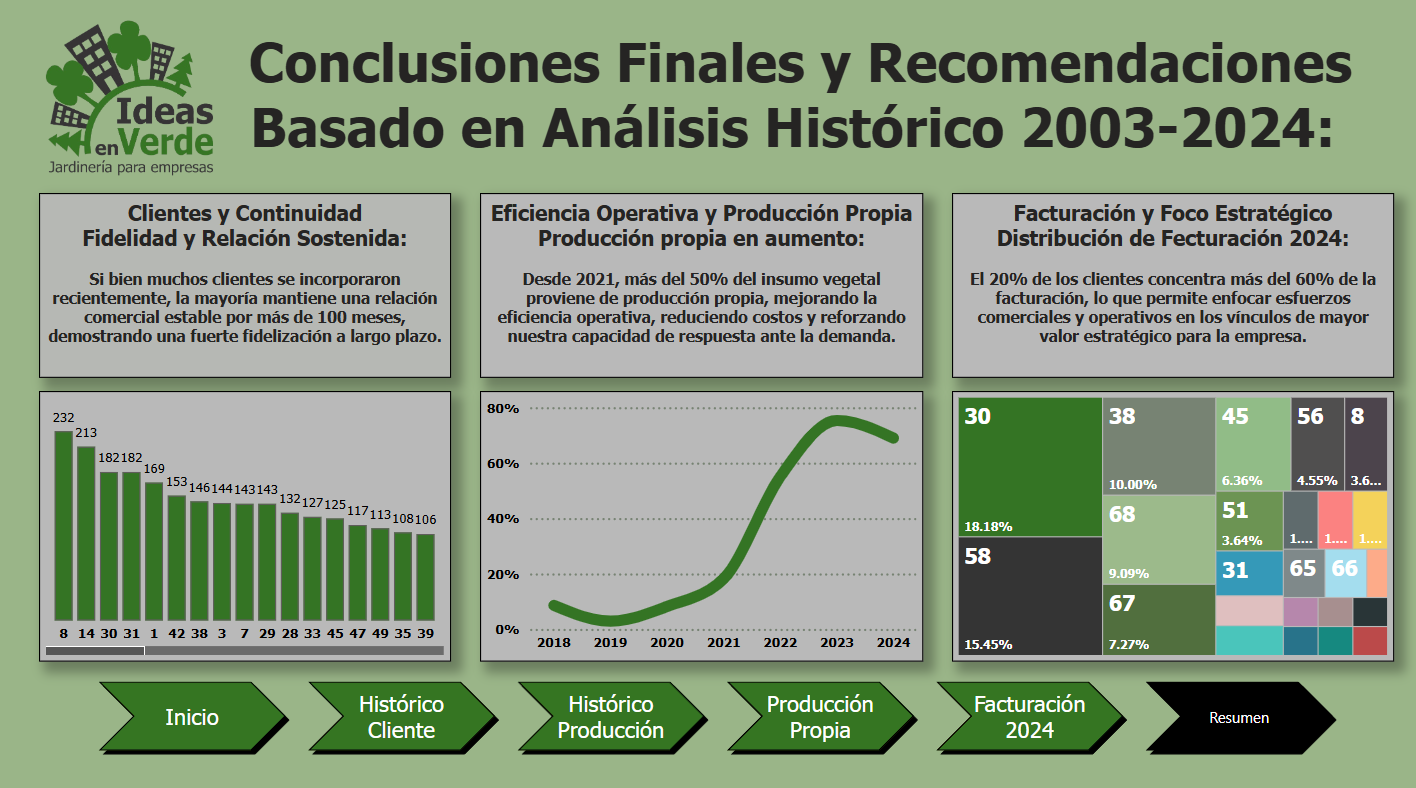

This screenshot's page, from the dashboard's own definition file:
{"tool":"powerbi","page":{"name":"Resumen","canvas":[1280,720],"ordinal":5},"visuals":[{"type":"image","box":[31,22,184,149],"z":0},{"type":"textbox","box":[215.5,29.6,1020.7,141.8],"z":1000},{"type":"textbox","box":[41.8,181.9,369.6,166.3],"z":2000},{"type":"textbox","box":[437.7,181.9,397.8,166.3],"z":3000},{"type":"textbox","box":[861.8,181.9,396.8,166.3],"z":4000},{"type":"pageNavigator","box":[90.5,615.7,1121.5,72.9],"z":5000},{"type":"clusteredColumnChart","title":"Meses Totales de Relación Comercial por Cliente","fields":{"Category":["tabla_larga_cliente_2024_filtrada.Cliente_Num"],"Y":["tabla_larga_cliente_2024_filtrada.Cantidad_Meses_Efectivos"]},"box":[41.8,359.9,369.6,243.2],"z":6000},{"type":"lineChart","title":"% Valor Producción Propia (2006 - 2024)","fields":{"Category":["Tabla Resumen 2003-2024.AñoTexto"],"Y":["Avg(Tabla Resumen 2003-2024.%Produccion_Propia)"]},"box":[437.7,359.9,397.8,243.2],"z":7000},{"type":"treemap","title":"Facturación Total 2024 por Cliente ","fields":{"Group":["Facturacion_2024.Cliente"],"Values":["Sum(Facturacion_2024.Round Up)"]},"box":[861.8,359.9,396.8,243.2],"z":8000}]}

Visuals, with their boxes in screenshot pixels (x1, y1, x2, y2), scaled from the page's 1280x720 canvas onto the 1416x788 screenshot:
image: locate(34, 24, 238, 187)
textbox: locate(238, 32, 1368, 188)
textbox: locate(46, 199, 455, 381)
textbox: locate(484, 199, 924, 381)
textbox: locate(953, 199, 1392, 381)
pageNavigator: locate(100, 674, 1341, 754)
"Meses Totales de Relación Comercial por Cliente" clusteredColumnChart: locate(46, 394, 455, 660)
"% Valor Producción Propia (2006 - 2024)" lineChart: locate(484, 394, 924, 660)
"Facturación Total 2024 por Cliente " treemap: locate(953, 394, 1392, 660)
